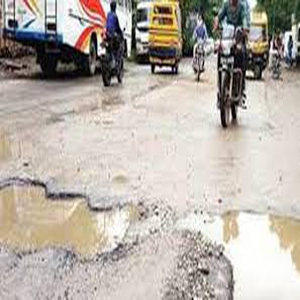pothole: (3, 175, 142, 285), (203, 208, 297, 300)
